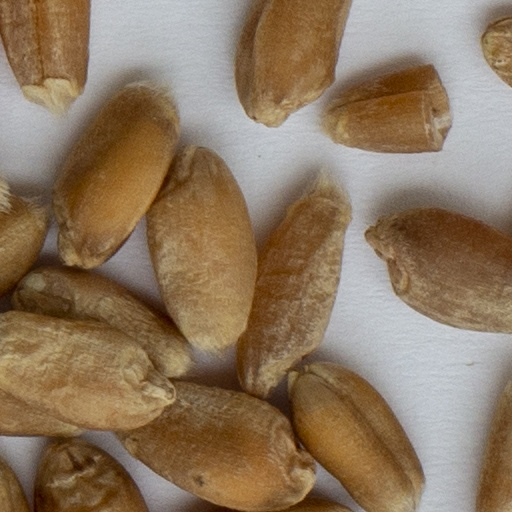Wheat-grain-damaged-poly: (324, 62, 453, 155)
